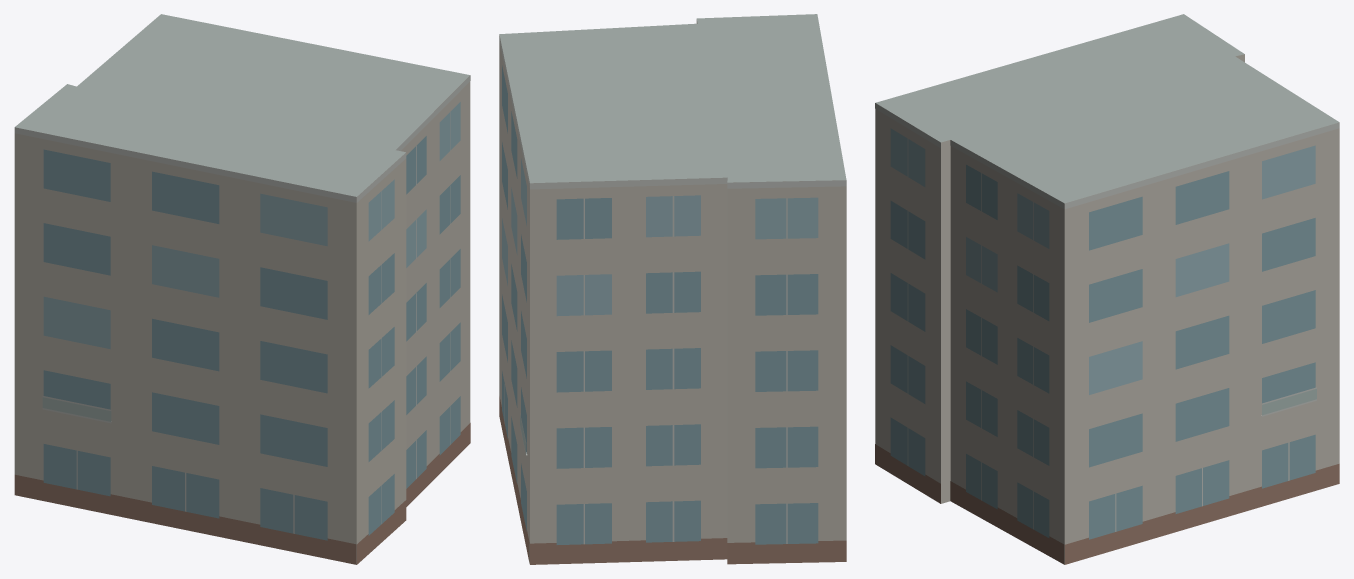
File: survey-upis-32887384.glb
3 views of the same model, side by side, from view 1: azimuth 30°, elevation 25°; view 2: azimuth 150°, elevation 25°; view 3: azimuth 270°, elevation 25° (orthographic). The views are drawn at different scales.
Visible parts, largest first — view 1: survey-upis-32887384.tmp; view 2: survey-upis-32887384.tmp; view 3: survey-upis-32887384.tmp.
Boxes of the visible parts, x1=… form: survey-upis-32887384.tmp: x1=14, y1=14, x2=470, y2=564; survey-upis-32887384.tmp: x1=499, y1=14, x2=846, y2=564; survey-upis-32887384.tmp: x1=875, y1=14, x2=1339, y2=564.
Size of the model in its own units: 16.87 by 15 by 17.48.
